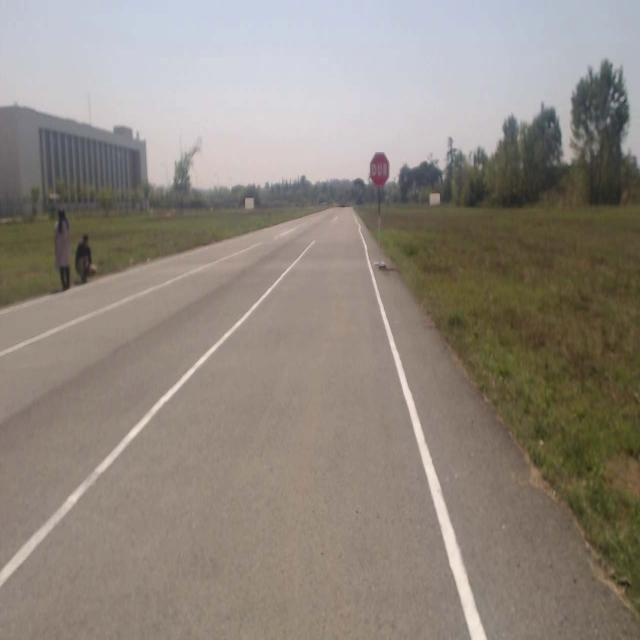dur: (370, 154, 390, 186)
